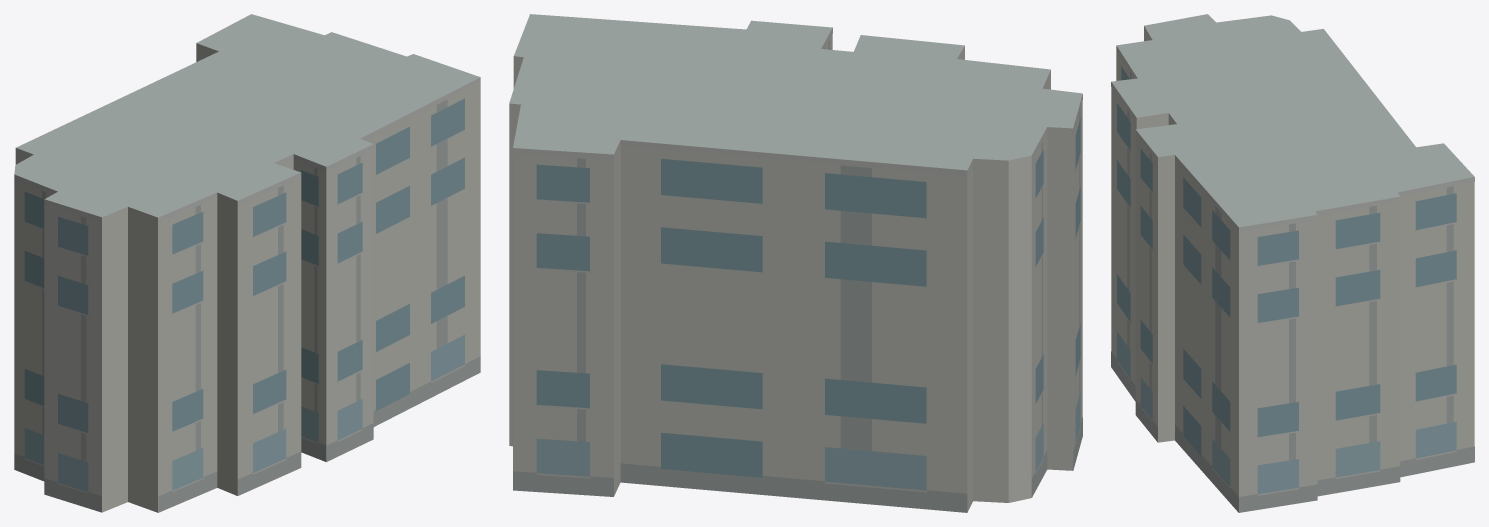
The model's file is survey-upis-32930362.glb.
The picture shows the model from 3 angles, left to right: view 1: azimuth 30°, elevation 25°; view 2: azimuth 150°, elevation 25°; view 3: azimuth 270°, elevation 25°; orthographic projection. The views are drawn at different scales.
Visible parts, largest first — view 1: survey-upis-32930362.tmp; view 2: survey-upis-32930362.tmp; view 3: survey-upis-32930362.tmp.
Boxes of the visible parts, x1,y1,x2,y2 form: survey-upis-32930362.tmp: (14, 14, 480, 512); survey-upis-32930362.tmp: (509, 14, 1082, 512); survey-upis-32930362.tmp: (1111, 14, 1474, 512).
Size of the model in its own units: 22.05 by 13.75 by 15.88.
